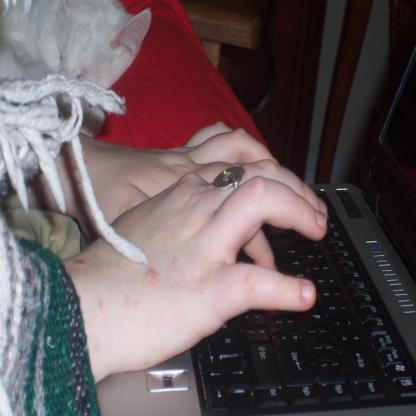board: (87, 62, 416, 414)
